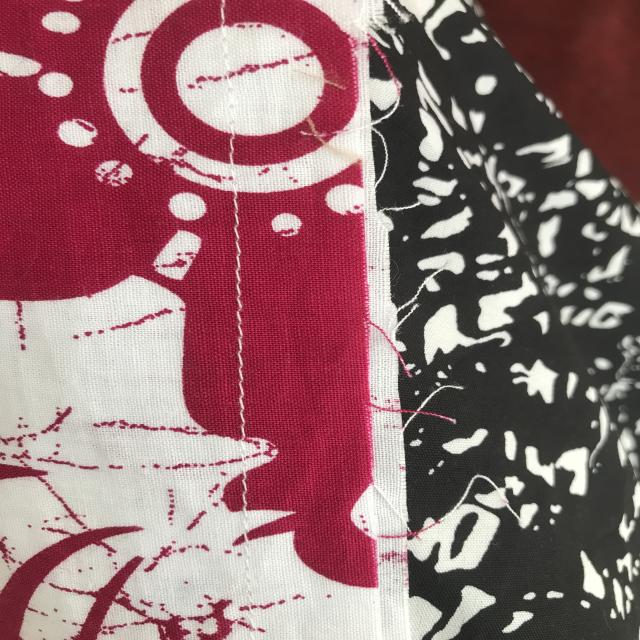good: (220, 209, 260, 428)
